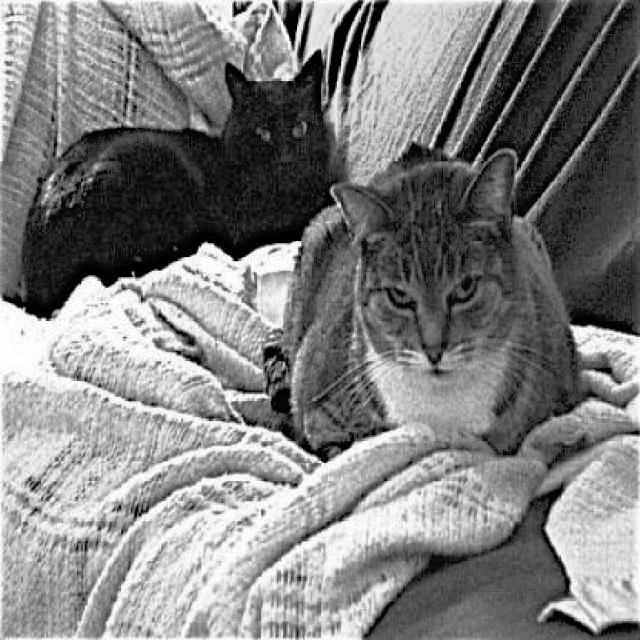Cat: (277, 130, 586, 455), (21, 45, 344, 325)
